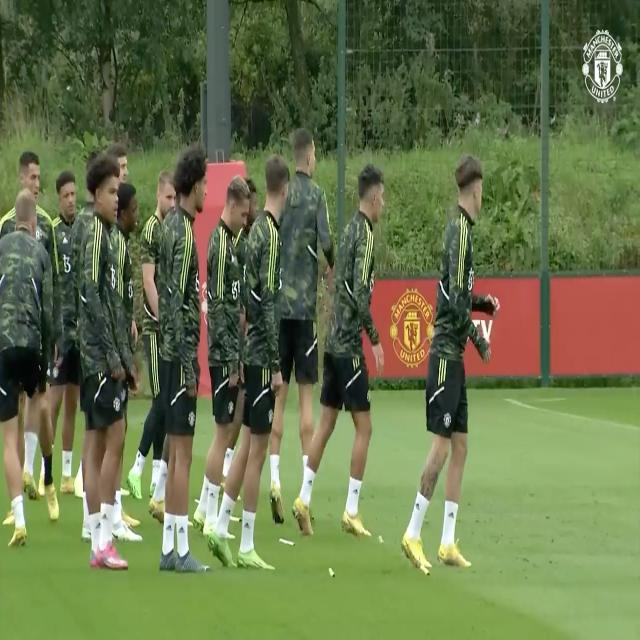Adidas: (446, 507, 456, 522), (225, 502, 234, 517), (178, 522, 187, 536), (244, 518, 252, 531), (102, 511, 110, 522), (353, 484, 360, 496)
